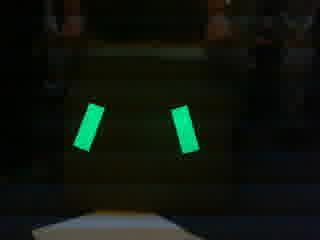target: (71, 101, 204, 155)
